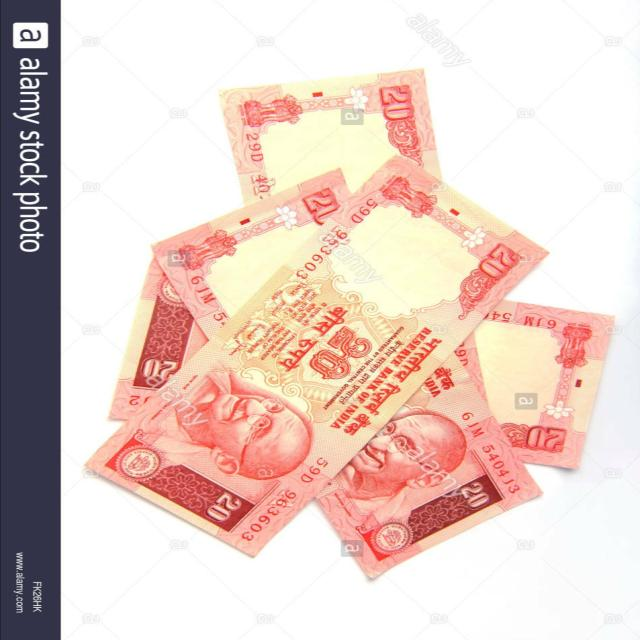20IndianRupees: (103, 160, 535, 560)
